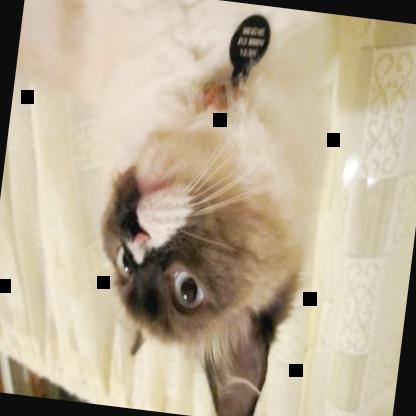cat: (0, 0, 346, 415)
